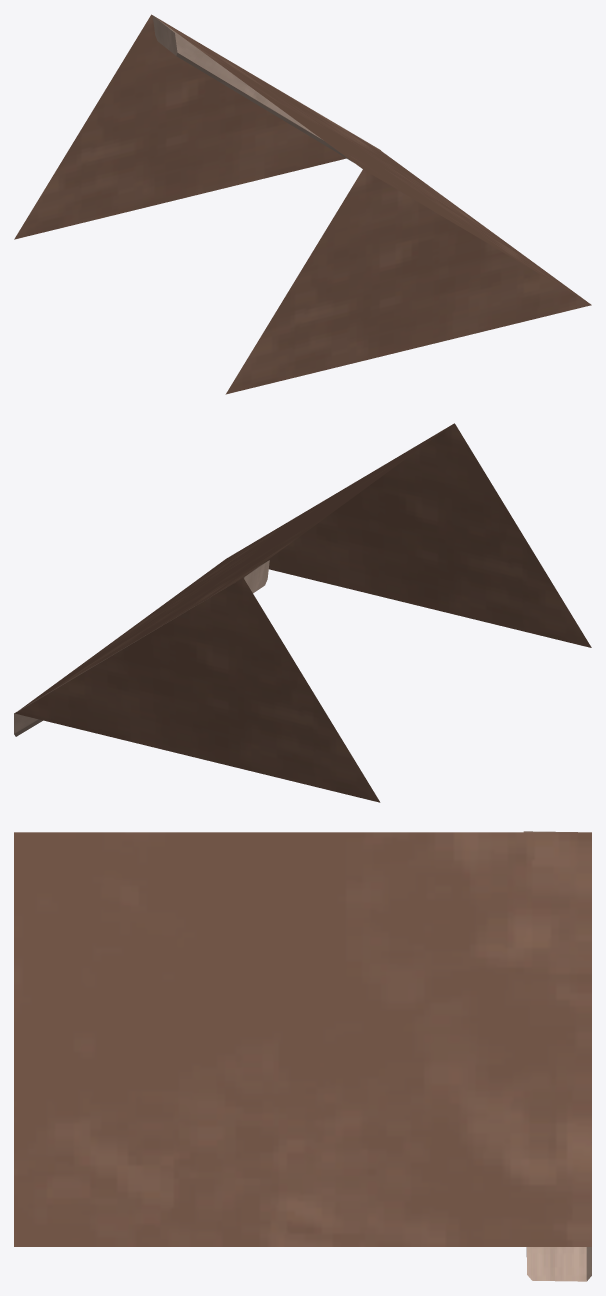
File: Ceiling_Slanted.fbx
The picture shows the model from 3 angles, top to bottom: view 1: azimuth 30°, elevation 25°; view 2: azimuth 150°, elevation 25°; view 3: azimuth 270°, elevation 25°; orthographic projection. The views are drawn at different scales.
Visible parts, largest first — view 1: Roof_Slanted_Right_Wall, Roof_Slanted_Left_Wall, Ceiling_Slanted, Ceiling_Slanted_Beam; view 2: Roof_Slanted_Left_Wall, Roof_Slanted_Right_Wall, Ceiling_Slanted, Ceiling_Slanted_Beam; view 3: Ceiling_Slanted, Ceiling_Slanted_Beam.
Boxes of the visible parts, x1,y1,x2,y2 form: Roof_Slanted_Right_Wall: (225,169,591,394); Roof_Slanted_Left_Wall: (14,14,346,239); Ceiling_Slanted: (153,15,589,303); Ceiling_Slanted_Beam: (152,15,380,162); Roof_Slanted_Left_Wall: (15,578,380,802); Roof_Slanted_Right_Wall: (261,423,591,647); Ceiling_Slanted: (20,424,452,709); Ceiling_Slanted_Beam: (14,560,269,736); Ceiling_Slanted: (14,832,591,1246); Ceiling_Slanted_Beam: (523,831,591,1281).
Size of the model in its own units: 200 by 113 by 200.
